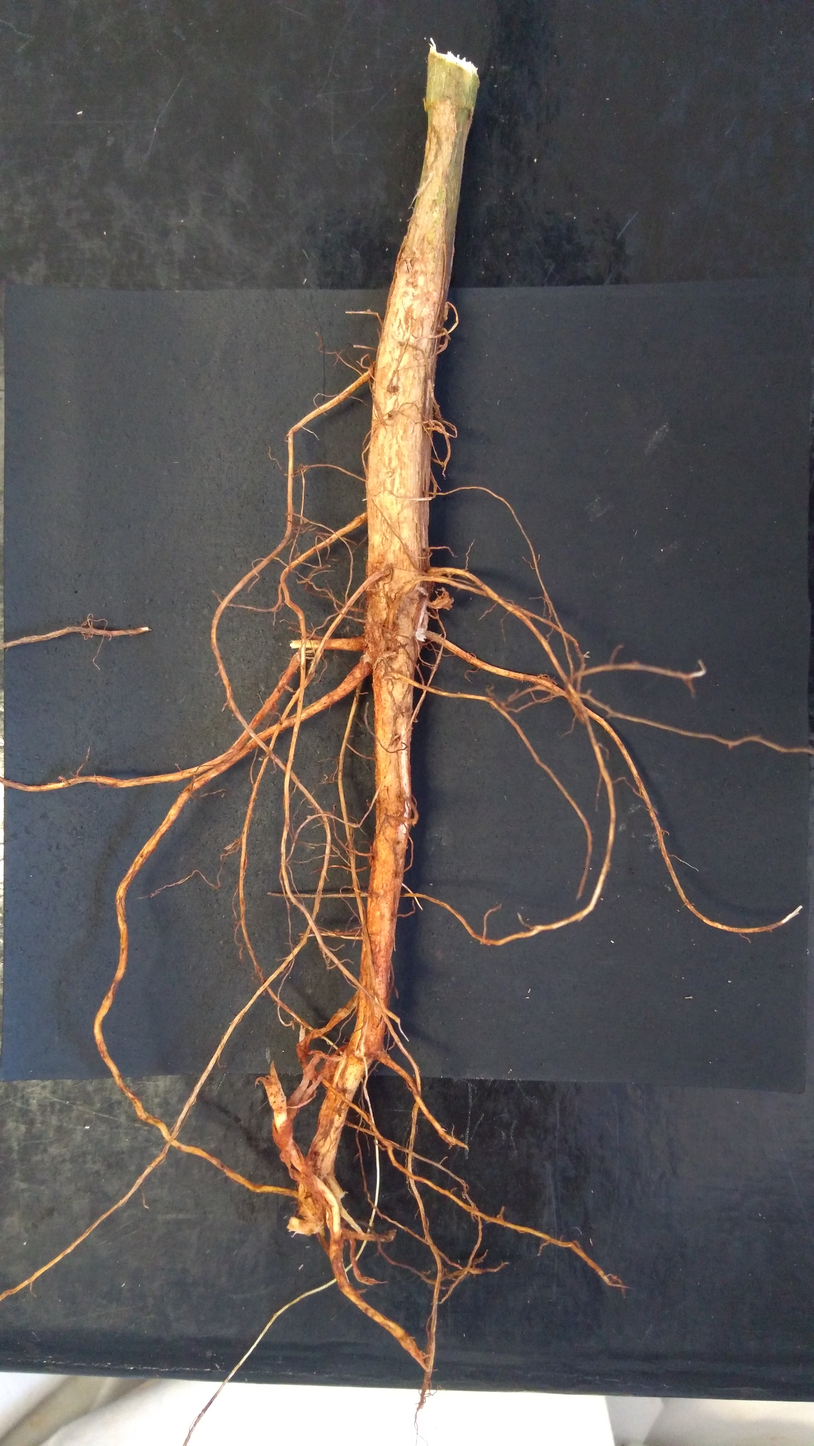nodule: (432, 592, 454, 611), (434, 424, 446, 434)
